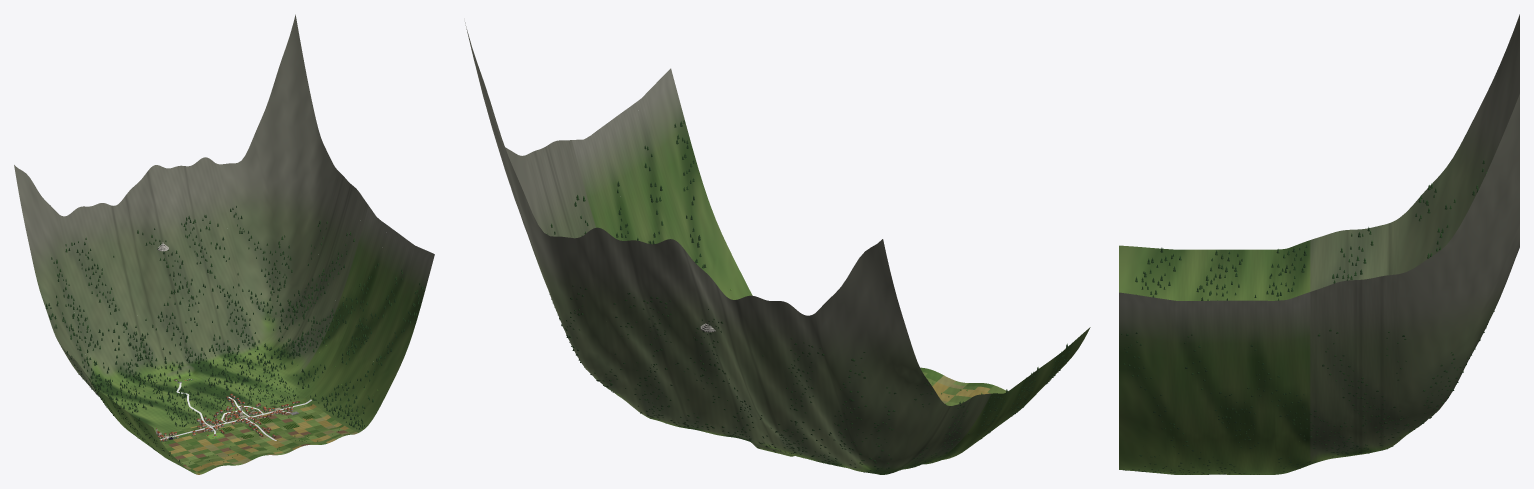
File: world.glb
The picture shows the model from 3 angles, left to right: view 1: azimuth 30°, elevation 25°; view 2: azimuth 150°, elevation 25°; view 3: azimuth 270°, elevation 25°; orthographic projection. The views are drawn at different scales.
Visible parts, largest first — view 1: T_6_0, T_5_0, T_2_0, T_6_1, T_1_0, T_3_0, T_4_0, T_6_2, T_3_1, T_6_3, T_0_0, T_6_4 (+39 smaller); view 2: T_0_0, T_6_5, T_4_0, T_1_0, T_5_0, T_2_0, T_3_0, T_0_1, T_6_4, T_4_1, T_3_1, T_6_3 (+12 smaller); view 3: T_6_2, T_6_3, T_6_5, T_6_4, T_6_1, T_6_0, T_0_0, T_0_1, T_0_3, T_0_2, T_0_4, T_0_5 (+6 smaller).
Part boxes in pixels (bbox=[...]): T_6_0: bbox=[255, 14, 318, 247]; T_5_0: bbox=[215, 133, 278, 280]; T_2_0: bbox=[94, 186, 157, 317]; T_6_1: bbox=[278, 131, 341, 296]; T_1_0: bbox=[54, 205, 117, 330]; T_3_0: bbox=[135, 165, 197, 293]; T_4_0: bbox=[175, 157, 238, 277]; T_6_2: bbox=[302, 175, 364, 323]; T_3_1: bbox=[158, 272, 220, 375]; T_6_3: bbox=[325, 201, 388, 348]; T_0_0: bbox=[14, 165, 77, 324]; T_6_4: bbox=[348, 226, 411, 366]; T_0_0: bbox=[823, 239, 917, 426]; T_6_5: bbox=[636, 68, 730, 274]; T_4_0: bbox=[583, 227, 677, 356]; T_1_0: bbox=[763, 299, 857, 435]; T_5_0: bbox=[523, 192, 617, 360]; T_2_0: bbox=[703, 270, 797, 415]; T_3_0: bbox=[643, 239, 737, 380]; T_0_1: bbox=[858, 362, 951, 473]; T_6_4: bbox=[602, 102, 678, 244]; T_4_1: bbox=[618, 346, 708, 432]; T_3_1: bbox=[678, 348, 771, 451]; T_6_3: bbox=[567, 127, 634, 240]; T_6_2: bbox=[1319, 275, 1386, 423]; T_6_3: bbox=[1252, 289, 1319, 435]; T_6_5: bbox=[1119, 292, 1185, 435]; T_6_4: bbox=[1186, 300, 1252, 435]; T_6_1: bbox=[1386, 237, 1452, 409]; T_6_0: bbox=[1453, 94, 1519, 362]; T_0_0: bbox=[1453, 14, 1519, 236]; T_0_1: bbox=[1386, 158, 1452, 275]; T_0_3: bbox=[1252, 237, 1319, 300]; T_0_2: bbox=[1319, 224, 1386, 288]; T_0_4: bbox=[1186, 249, 1252, 300]; T_0_5: bbox=[1119, 245, 1185, 300].
Bounding box in the file's own units: 1400 × 1445 × 1200.
